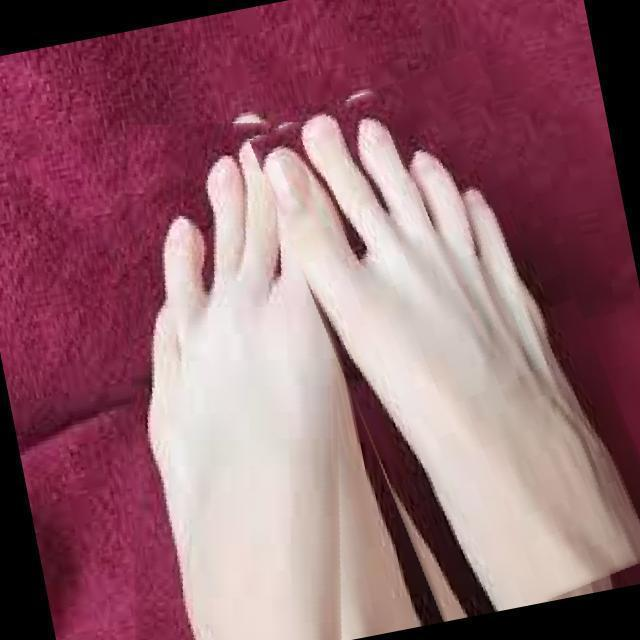No_Shoes: (303, 100, 640, 608), (147, 119, 315, 640)
